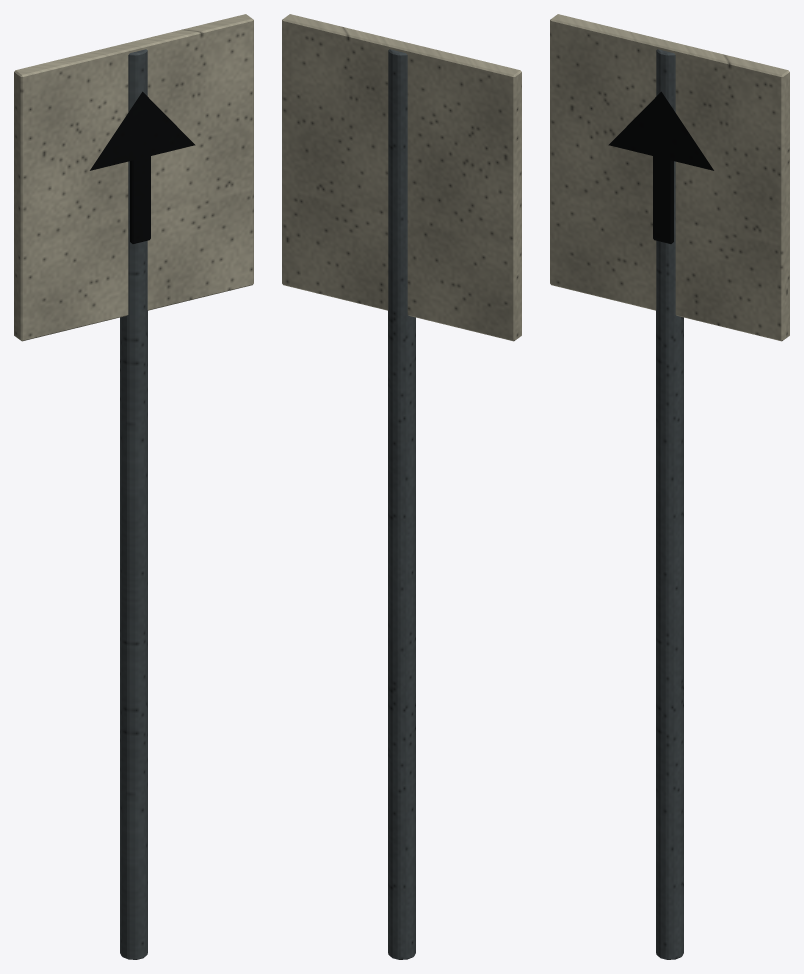
Rendered from PROP-56DF42C17296_lod1.glb.
3 views of the same model, side by side, from view 1: azimuth 30°, elevation 25°; view 2: azimuth 150°, elevation 25°; view 3: azimuth 330°, elevation 25° (orthographic).
Visible parts, largest first — view 1: sign_plate.012, sign_post.017, direction_symbol.012, symbol_stem.012; view 2: sign_plate.012, sign_post.017; view 3: sign_plate.012, sign_post.017, direction_symbol.012, symbol_stem.012.
Boxes of the visible parts, x1=… form: sign_plate.012: x1=14, y1=14, x2=253, y2=341; sign_post.017: x1=120, y1=49, x2=147, y2=959; direction_symbol.012: x1=90, y1=91, x2=195, y2=170; symbol_stem.012: x1=130, y1=156, x2=150, y2=243; sign_plate.012: x1=282, y1=14, x2=521, y2=341; sign_post.017: x1=388, y1=49, x2=415, y2=959; sign_plate.012: x1=550, y1=14, x2=789, y2=341; sign_post.017: x1=656, y1=49, x2=683, y2=959; direction_symbol.012: x1=608, y1=91, x2=713, y2=170; symbol_stem.012: x1=653, y1=156, x2=673, y2=243.
Bounding box in the file's own units: 0.66 × 2.46 × 0.0753.
Materials: 3 (3 with a texture image).
